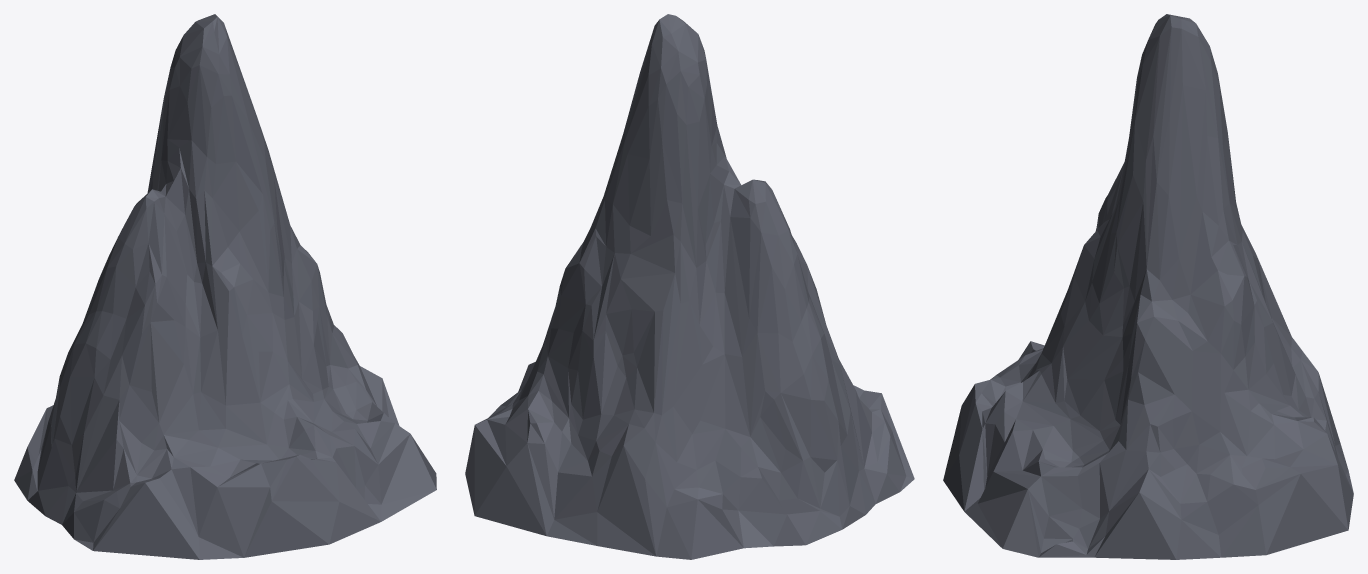
Rendered from Mountain_02.fbx.
3 renders of one model, left to right at view 1: azimuth 30°, elevation 25°; view 2: azimuth 150°, elevation 25°; view 3: azimuth 270°, elevation 25°, orthographic. The views are drawn at different scales.
Visible parts, largest first — view 1: Mountain_02; view 2: Mountain_02; view 3: Mountain_02.
Part boxes in pixels (left/top/right/bottom): Mountain_02: left=14, top=14, right=436, bottom=559; Mountain_02: left=465, top=14, right=914, bottom=559; Mountain_02: left=943, top=14, right=1353, bottom=559.
Size of the model in its own units: 4981 by 6206 by 4980.
1 material, 1 textured.
